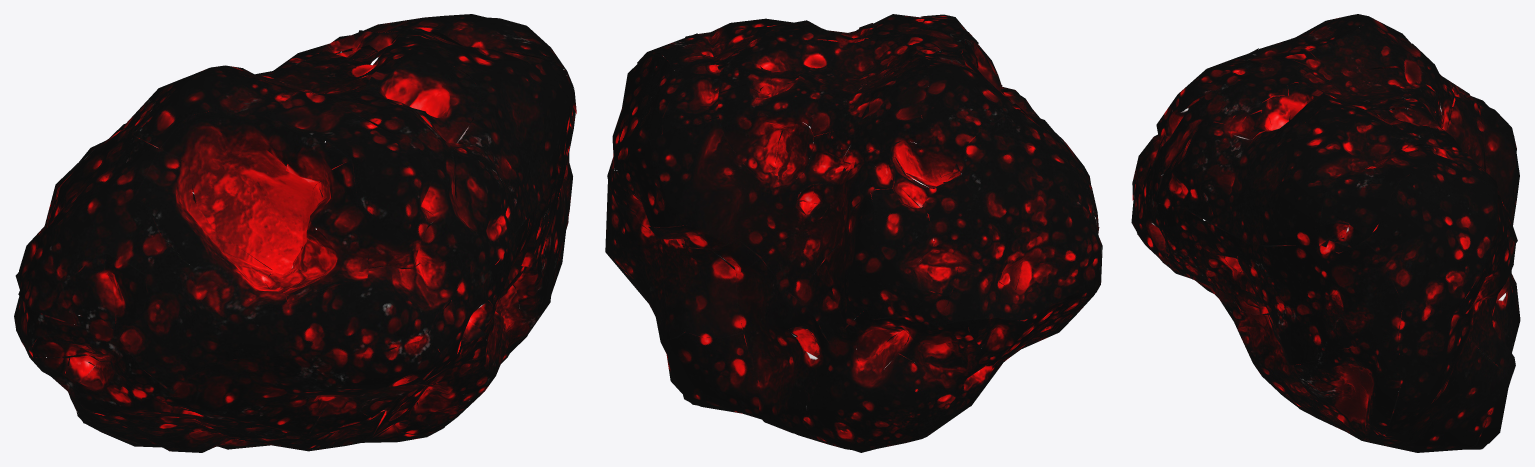
Rendered from meteorit.glb.
The picture shows the model from 3 angles, left to right: view 1: azimuth 30°, elevation 25°; view 2: azimuth 150°, elevation 25°; view 3: azimuth 270°, elevation 25°; orthographic projection. The views are drawn at different scales.
Parts seen in each view (by area): view 1: Object_2; view 2: Object_2; view 3: Object_2.
Part boxes in pixels (x1,y1,x2,y2): Object_2: (14, 14, 576, 452); Object_2: (605, 14, 1102, 452); Object_2: (1131, 14, 1520, 452).
Size of the model in its own units: 16.92 by 12.23 by 12.25.
Materials: 1 (1 with a texture image).
